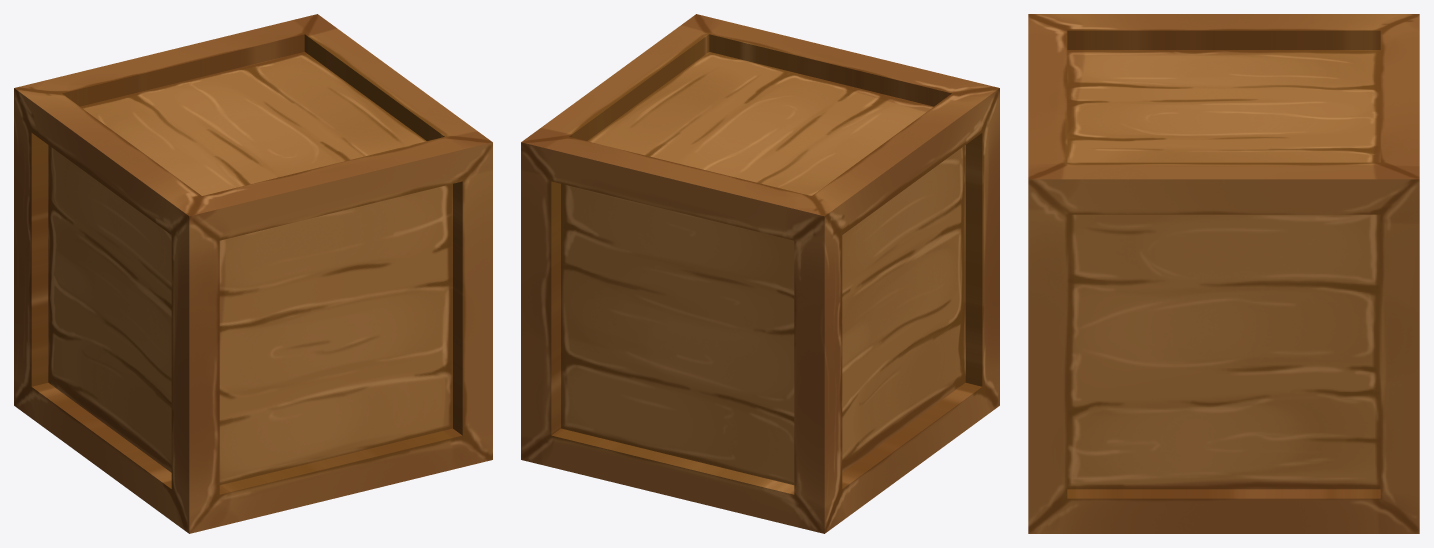
The model's file is Crate.glb.
3 views of the same model, side by side, from view 1: azimuth 30°, elevation 25°; view 2: azimuth 150°, elevation 25°; view 3: azimuth 270°, elevation 25° (orthographic). The views are drawn at different scales.
Parts seen in each view (by area): view 1: LowPoly.003; view 2: LowPoly.003; view 3: LowPoly.003.
Boxes of the visible parts, box(x1,y1,x2,y2) form: LowPoly.003: box(14, 14, 492, 533); LowPoly.003: box(521, 14, 999, 533); LowPoly.003: box(1028, 14, 1419, 533).
Size of the model in its own units: 0.9 by 0.9 by 0.9.
Materials: 1 (1 with a texture image).
